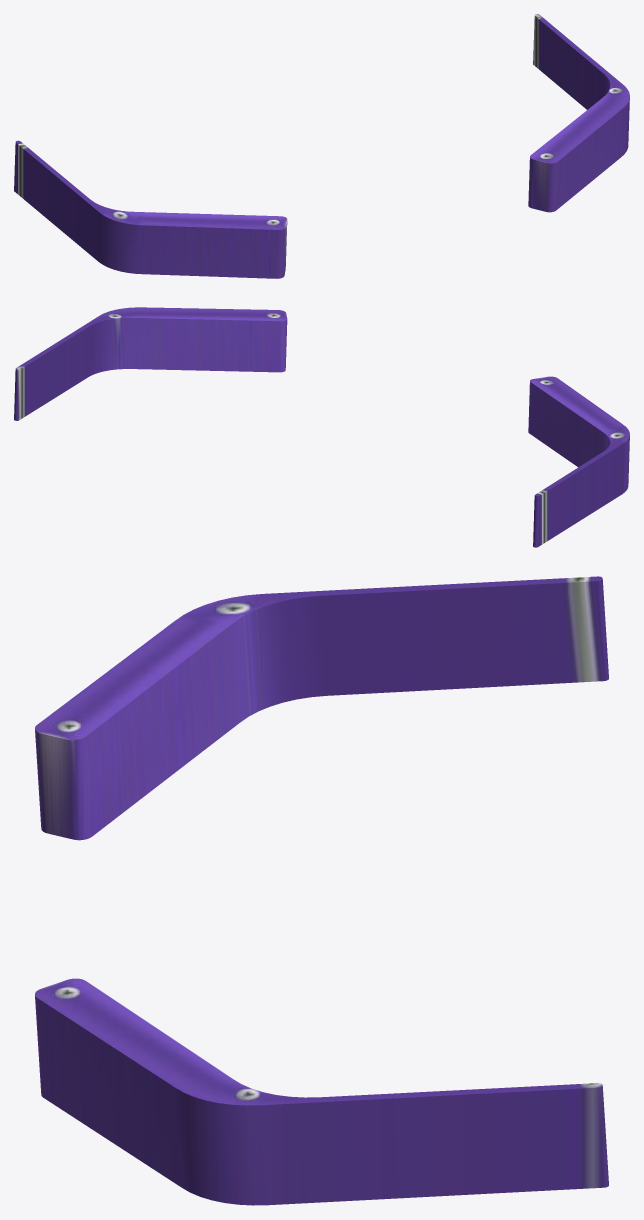
The model's file is tornillos_morados_2.obj.
3 renders of one model, top to bottom at view 1: azimuth 30°, elevation 25°; view 2: azimuth 150°, elevation 25°; view 3: azimuth 270°, elevation 25°, orthographic. The views are drawn at different scales.
Visible parts, largest first — view 1: tronillos_morados2; view 2: tronillos_morados2; view 3: tronillos_morados2.
Boxes of the visible parts, x1,y1,x2,y2 form: tronillos_morados2: (14, 14, 629, 278); tronillos_morados2: (14, 307, 629, 547); tronillos_morados2: (35, 576, 608, 1205).
Size of the model in its own units: 6.44 by 0.7613 by 3.06.
